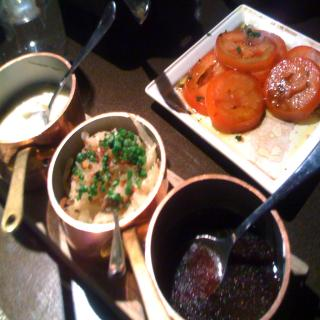tomato: (262, 55, 320, 124), (206, 72, 266, 132), (214, 27, 276, 72), (184, 52, 228, 113), (252, 34, 287, 86), (288, 44, 320, 68)
